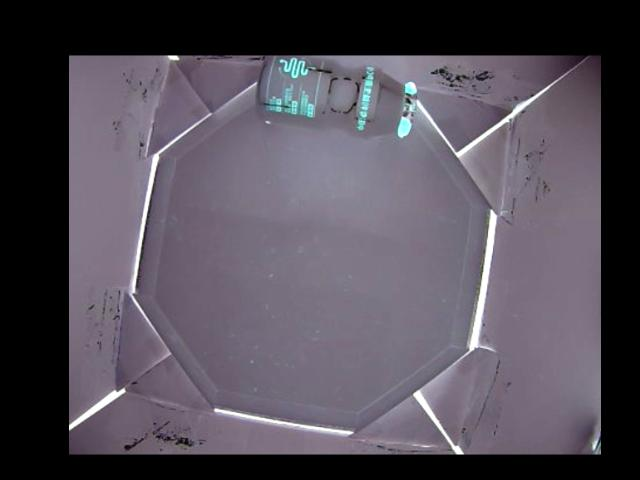Bottle: (255, 56, 415, 143)
